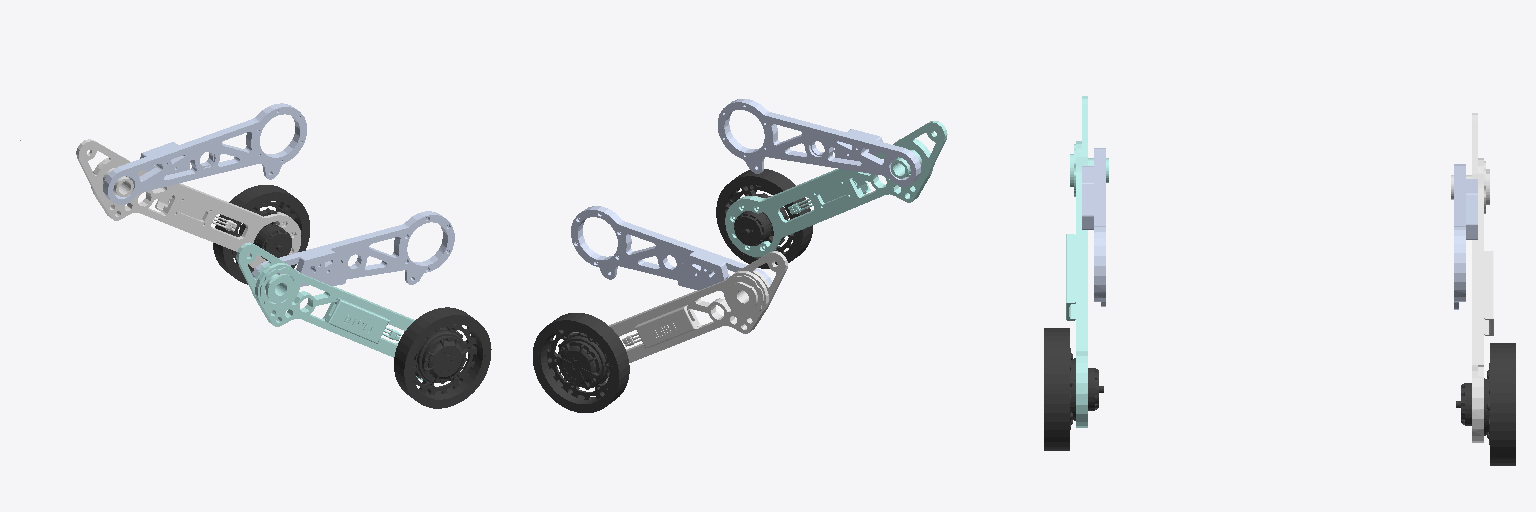
robot.urdf — bipedal_4:
<?xml version="1.0" encoding="utf-8"?>
<!-- This URDF was automatically created by SolidWorks to URDF Exporter! Originally created by [author] ([email redacted]) 
     Commit Version: 1.6.0-4-g7f85cfe  Build Version: 1.6.7995.38578
     For more information, please see http://wiki.ros.org/sw_urdf_exporter -->
<robot
  name="bipedal_4">
  <link
    name="base_link">
    <inertial>
      <origin
        xyz="-0.0139738203986803 0.00113987976531827 0.150719705348735"
        rpy="0 0 0" />
      <mass
        value="19.0171452759762" />
      <inertia
        ixx="0.0677120692339879"
        ixy="-2.15982330934348E-06"
        ixz="0.00156576451776296"
        iyy="0.0792220899468785"
        iyz="1.06848371494314E-05"
        izz="0.0827647279919054" />
    </inertial>
    <visual>
      <origin
        xyz="0 0 0"
        rpy="0 0 0" />
      <geometry>
        <mesh
          filename="package://bipedal_4/meshes/base_link.STL" />
      </geometry>
      <material
        name="">
        <color
          rgba="0.866666666666667 0.909803921568627 1 1" />
      </material>
    </visual>
    <collision>
      <origin
        xyz="0 0 0"
        rpy="0 0 0" />
      <geometry>
        <mesh
          filename="package://bipedal_4/meshes/base_link.STL" />
      </geometry>
    </collision>
  </link>
  <link
    name="Lbig_Link">
    <inertial>
      <origin
        xyz="-0.0991497956763343 0.0109572662458319 -0.00703854276522342"
        rpy="0 0 0" />
      <mass
        value="0.27966261051803" />
      <inertia
        ixx="9.58389748767808E-05"
        ixy="1.8865479269661E-06"
        ixz="-6.771807222794E-05"
        iyy="0.00152348729956388"
        iyz="-5.34322936718681E-07"
        izz="0.00143433873578485" />
    </inertial>
    <visual>
      <origin
        xyz="0 0 0"
        rpy="0 0 0" />
      <geometry>
        <mesh
          filename="package://bipedal_4/meshes/Lbig_Link.STL" />
      </geometry>
      <material
        name="">
        <color
          rgba="0.866666666666667 0.909803921568627 1 1" />
      </material>
    </visual>
    <collision>
      <origin
        xyz="0 0 0"
        rpy="0 0 0" />
      <geometry>
        <mesh
          filename="package://bipedal_4/meshes/Lbig_Link.STL" />
      </geometry>
    </collision>
  </link>
  <joint
    name="Lbig_joint"
    type="revolute">
    <origin
      xyz="-0.000178401215171291 0.16779905389617 0.141513103962356"
      rpy="0 0 0" />
    <parent
      link="base_link" />
    <child
      link="Lbig_Link" />
    <axis
      xyz="0 1 0" />
    <limit
      lower="-60.0"
      upper="20.0"
      effort="0"
      velocity="0" />
  </joint>
  <link
    name="Lsmall_Link">
    <inertial>
      <origin
        xyz="0.0795923108169853 0.00763774972306 -0.0494795520620365"
        rpy="0 0 0" />
      <mass
        value="0.280240873926259" />
      <inertia
        ixx="0.000573834464169704"
        ixy="-1.08614438212764E-06"
        ixz="0.000768877792145723"
        iyy="0.00188519428282416"
        iyz="1.5495502858247E-06"
        izz="0.00132471942857228" />
    </inertial>
    <visual>
      <origin
        xyz="0 0 0"
        rpy="0 0 0" />
      <geometry>
        <mesh
          filename="package://bipedal_4/meshes/Lsmall_Link.STL" />
      </geometry>
      <material
        name="">
        <color
          rgba="0.929411764705882 0.929411764705882 0.929411764705882 1" />
      </material>
    </visual>
    <collision>
      <origin
        xyz="0 0 0"
        rpy="0 0 0" />
      <geometry>
        <mesh
          filename="package://bipedal_4/meshes/Lsmall_Link.STL" />
      </geometry>
    </collision>
  </link>
  <joint
    name="Lsmall_joint"
    type="revolute">
    <origin
      xyz="-0.214311173258445 0.0210000000000003 -0.0171965408320637"
      rpy="0 0 0" />
    <parent
      link="Lbig_Link" />
    <child
      link="Lsmall_Link" />
    <axis
      xyz="0 1 0" />
    <limit
      lower="-2.1"
      upper="60.0"
      effort="0"
      velocity="0" />
  </joint>
  <link
    name="Lwheel_Link">
    <inertial>
      <origin
        xyz="5.07586676439268E-05 -0.00304908655006578 -9.34238927408487E-05"
        rpy="0 0 0" />
      <mass
        value="0.304045447582784" />
      <inertia
        ixx="0.000308809279801623"
        ixy="1.34202178411237E-07"
        ixz="-3.59301197254163E-07"
        iyy="0.000569584610378051"
        iyz="-2.00979532251928E-07"
        izz="0.000309114487603274" />
    </inertial>
    <visual>
      <origin
        xyz="0 0 0"
        rpy="0 0 0" />
      <geometry>
        <mesh
          filename="package://bipedal_4/meshes/Lwheel_Link.STL" />
      </geometry>
      <material
        name="">
        <color
          rgba="0.298039215686275 0.298039215686275 0.298039215686275 1" />
      </material>
    </visual>
    <collision>
      <origin
        xyz="0 0 0"
        rpy="0 0 0" />
      <geometry>
        <mesh
          filename="package://bipedal_4/meshes/Lwheel_Link.STL" />
      </geometry>
    </collision>
  </link>
  <joint
    name="Lwheel"
    type="revolute">
    <origin
      xyz="0.216526176180854 0.0295500000000026 -0.132787104149825"
      rpy="0 0 0" />
    <parent
      link="Lsmall_Link" />
    <child
      link="Lwheel_Link" />
    <axis
      xyz="0 1 0" />
    <limit
      lower="0"
      upper="0"
      effort="0"
      velocity="0" />
  </joint>
  <link
    name="Rbig_Link">
    <inertial>
      <origin
        xyz="-0.0989578041538285 -0.0108745380747719 0.0011692357323468"
        rpy="0 0 0" />
      <mass
        value="0.273514929512008" />
      <inertia
        ixx="9.28252694372549E-05"
        ixy="-1.82687291234606E-06"
        ixz="4.26789905922823E-05"
        iyy="0.00151101566452208"
        iyz="6.82542549429345E-07"
        izz="0.00142473513849079" />
    </inertial>
    <visual>
      <origin
        xyz="0 0 0"
        rpy="0 0 0" />
      <geometry>
        <mesh
          filename="package://bipedal_4/meshes/Rbig_Link.STL" />
      </geometry>
      <material
        name="">
        <color
          rgba="0.866666666666667 0.909803921568627 1 1" />
      </material>
    </visual>
    <collision>
      <origin
        xyz="0 0 0"
        rpy="0 0 0" />
      <geometry>
        <mesh
          filename="package://bipedal_4/meshes/Rbig_Link.STL" />
      </geometry>
    </collision>
  </link>
  <joint
    name="Rbig_joint"
    type="revolute">
    <origin
      xyz="-0.000178401215171245 -0.16320094610383 0.141513103962356"
      rpy="0 0 0" />
    <parent
      link="base_link" />
    <child
      link="Rbig_Link" />
    <axis
      xyz="0 -1 0" />
    <limit
      lower="-20.0"
      upper="60.0"
      effort="0"
      velocity="0" />
  </joint>
  <link
    name="Rsmall_Link">
    <inertial>
      <origin
        xyz="0.0885759276231505 -0.00721501253133477 -0.0557923155321017"
        rpy="0 0 0" />
      <mass
        value="0.25191594649154" />
      <inertia
        ixx="0.000569012333870455"
        ixy="1.18974160320502E-06"
        ixz="0.000768612836757727"
        iyy="0.00187798083909662"
        iyz="-1.26065244786658E-06"
        izz="0.00132225061826416" />
    </inertial>
    <visual>
      <origin
        xyz="0 0 0"
        rpy="0 0 0" />
      <geometry>
        <mesh
          filename="package://bipedal_4/meshes/Rsmall_Link.STL" />
      </geometry>
      <material
        name="">
        <color
          rgba="0.780392156862745 0.972549019607843 0.956862745098039 1" />
      </material>
    </visual>
    <collision>
      <origin
        xyz="0 0 0"
        rpy="0 0 0" />
      <geometry>
        <mesh
          filename="package://bipedal_4/meshes/Rsmall_Link.STL" />
      </geometry>
    </collision>
  </link>
  <joint
    name="Rsmall_joint"
    type="revolute">
    <origin
      xyz="-0.214999444157336 -0.0209999999999999 0.000488888572905369"
      rpy="0 0 0" />
    <parent
      link="Rbig_Link" />
    <child
      link="Rsmall_Link" />
    <axis
      xyz="0 -1 0" />
    <limit
      lower="-60.0"
      upper="2.1"
      effort="0"
      velocity="0" />
  </joint>
  <link
    name="Rwheel_Link">
    <inertial>
      <origin
        xyz="0.000106238462220554 0.00304908675320489 -4.21473891397406E-06"
        rpy="0 0 0" />
      <mass
        value="0.304045453654443" />
      <inertia
        ixx="0.00030933981550009"
        ixy="-2.39605909671397E-07"
        ixz="-9.77394088071138E-08"
        iyy="0.000569584610633791"
        iyz="3.14965394665953E-08"
        izz="0.000308583952130175" />
    </inertial>
    <visual>
      <origin
        xyz="0 0 0"
        rpy="0 0 0" />
      <geometry>
        <mesh
          filename="package://bipedal_4/meshes/Rwheel_Link.STL" />
      </geometry>
      <material
        name="">
        <color
          rgba="0.298039215686275 0.298039215686275 0.298039215686275 1" />
      </material>
    </visual>
    <collision>
      <origin
        xyz="0 0 0"
        rpy="0 0 0" />
      <geometry>
        <mesh
          filename="package://bipedal_4/meshes/Rwheel_Link.STL" />
      </geometry>
    </collision>
  </link>
  <joint
    name="Rwheel_joint"
    type="revolute">
    <origin
      xyz="0.214845955785242 -0.02955 -0.135488801318506"
      rpy="0 0 0" />
    <parent
      link="Rsmall_Link" />
    <child
      link="Rwheel_Link" />
    <axis
      xyz="0 -1 0" />
    <limit
      lower="0"
      upper="0"
      effort="0"
      velocity="0" />
  </joint>
</robot>

--- What the picture shows (computed from the rendered views, not written in the file) ---
The picture shows the robot from 3 angles, left to right: view 1: azimuth 30°, elevation 25°; view 2: azimuth 150°, elevation 25°; view 3: azimuth 270°, elevation 25°; orthographic projection.
Model bipedal_4 with 7 links and 6 joints (6 revolute), rooted at base_link, posed every joint at zero.
Links seen in each view (by area): view 1: Rwheel_Link, Lsmall_Link, Rsmall_Link, Lbig_Link, Rbig_Link, Lwheel_Link; view 2: Rsmall_Link, Lwheel_Link, Lsmall_Link, Rbig_Link, Lbig_Link, Rwheel_Link; view 3: Rsmall_Link, Lsmall_Link, Rwheel_Link, Lwheel_Link, Rbig_Link, Lbig_Link.
Link boxes in pixels (box(x1,y1,x2,y2)): Rwheel_Link: box(394, 307, 491, 408); Lsmall_Link: box(20, 139, 300, 268); Rsmall_Link: box(236, 242, 456, 380); Lbig_Link: box(103, 103, 306, 204); Rbig_Link: box(252, 211, 454, 295); Lwheel_Link: box(213, 185, 309, 284); Rsmall_Link: box(725, 121, 947, 256); Lwheel_Link: box(533, 313, 629, 412); Lsmall_Link: box(573, 251, 787, 382); Rbig_Link: box(718, 99, 920, 185); Lbig_Link: box(571, 206, 771, 291); Rwheel_Link: box(716, 169, 812, 268); Rsmall_Link: box(1066, 96, 1108, 427); Lsmall_Link: box(1451, 113, 1493, 442); Rwheel_Link: box(1044, 328, 1103, 450); Lwheel_Link: box(1456, 343, 1515, 465); Rbig_Link: box(1082, 148, 1105, 306); Lbig_Link: box(1454, 164, 1477, 309).
Size in the robot's own frame: 0.4005 by 0.4601 by 0.2869 metres.
6 mesh visuals loaded from 7 distinct referenced files (6 binary STL); not drawn: 1 (reference not matched to a file when rendering).